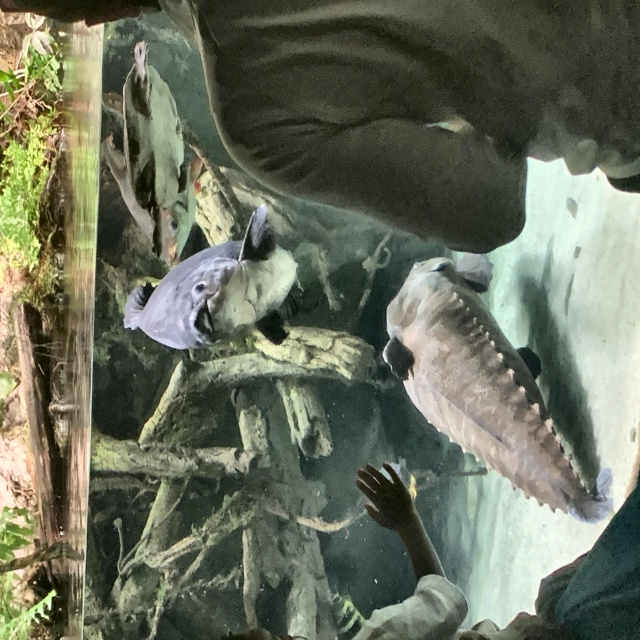fish: (383, 249, 612, 522), (121, 200, 303, 357)
